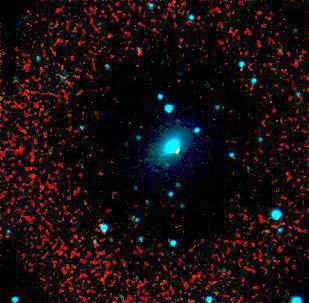star: (162, 136, 192, 166)
